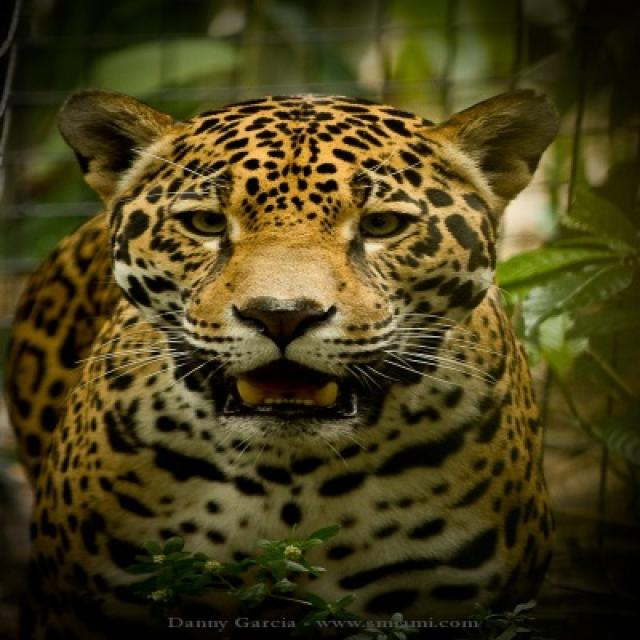Jaguar: (8, 90, 558, 638)
